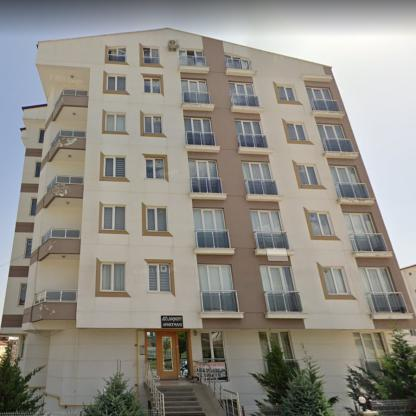door: (156, 330, 180, 379)
window: (354, 332, 386, 370), (259, 331, 294, 362), (189, 159, 220, 193), (317, 124, 350, 151), (199, 264, 233, 290), (260, 266, 295, 290), (359, 268, 394, 292), (322, 266, 350, 294), (184, 118, 212, 144), (100, 263, 126, 291), (235, 121, 264, 146), (194, 209, 226, 230), (250, 210, 282, 231), (343, 214, 376, 234), (182, 79, 208, 104), (148, 263, 170, 292), (201, 331, 224, 358), (308, 88, 336, 110), (102, 205, 125, 230), (230, 83, 256, 105), (146, 207, 168, 231), (309, 212, 333, 234), (242, 162, 272, 179), (329, 166, 359, 182), (104, 156, 125, 177), (298, 164, 320, 184), (180, 50, 205, 66), (146, 158, 164, 180), (105, 113, 126, 131), (226, 54, 249, 70), (145, 114, 162, 133), (143, 77, 161, 94), (288, 123, 306, 140), (107, 75, 126, 91), (143, 47, 159, 63), (108, 47, 126, 61), (278, 86, 296, 100), (19, 283, 26, 305), (25, 239, 31, 257), (30, 198, 36, 215), (35, 162, 41, 177), (39, 129, 44, 142)
